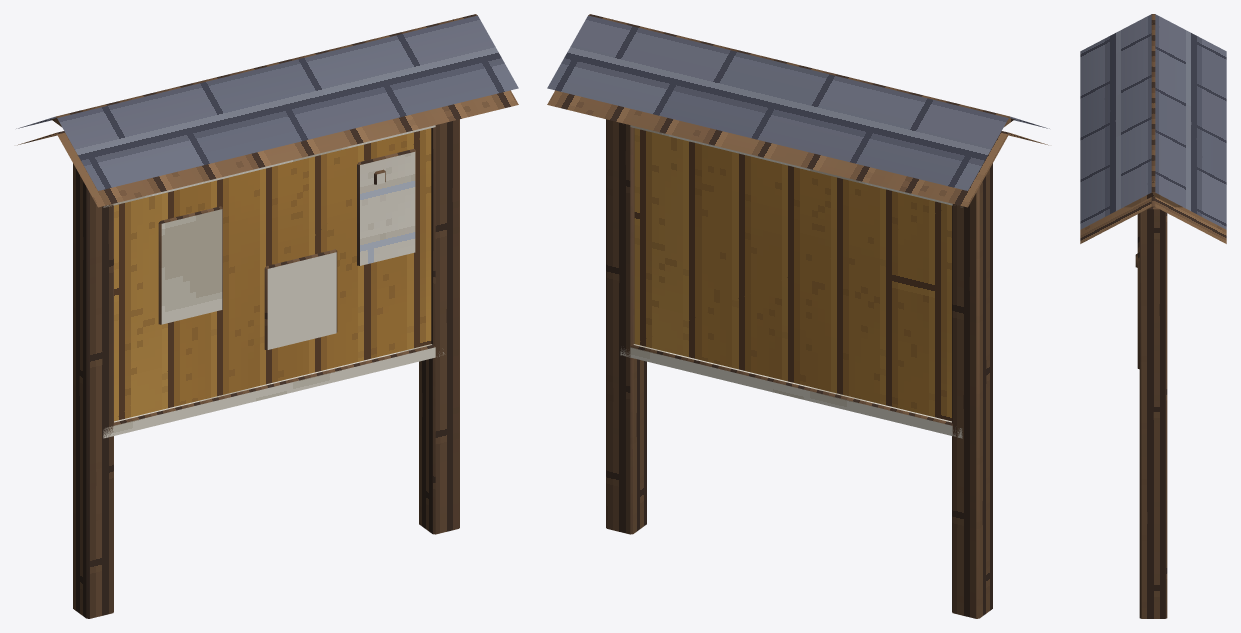
The model's file is spec_notice_board_3.glb.
3 views of the same model, side by side, from view 1: azimuth 30°, elevation 25°; view 2: azimuth 150°, elevation 25°; view 3: azimuth 270°, elevation 25° (orthographic). The views are drawn at different scales.
Parts seen in each view (by area): view 1: spec_notice_board_3; view 2: spec_notice_board_3; view 3: spec_notice_board_3.
Part boxes in pixels (x1,y1,x2,y2): spec_notice_board_3: (16, 14, 518, 618); spec_notice_board_3: (547, 14, 1049, 618); spec_notice_board_3: (1080, 14, 1226, 618).
Size of the model in its own units: 2.14 by 2.44 by 0.74.
Materials: 8 (8 with a texture image).
